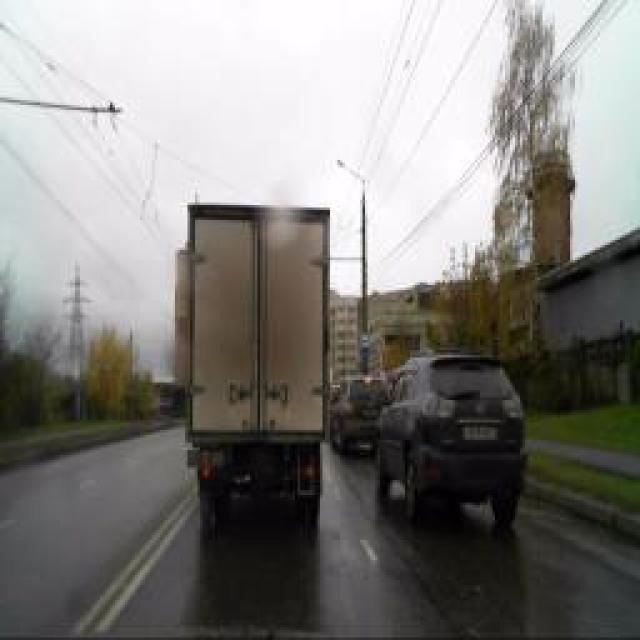sign: (375, 331, 387, 354)
